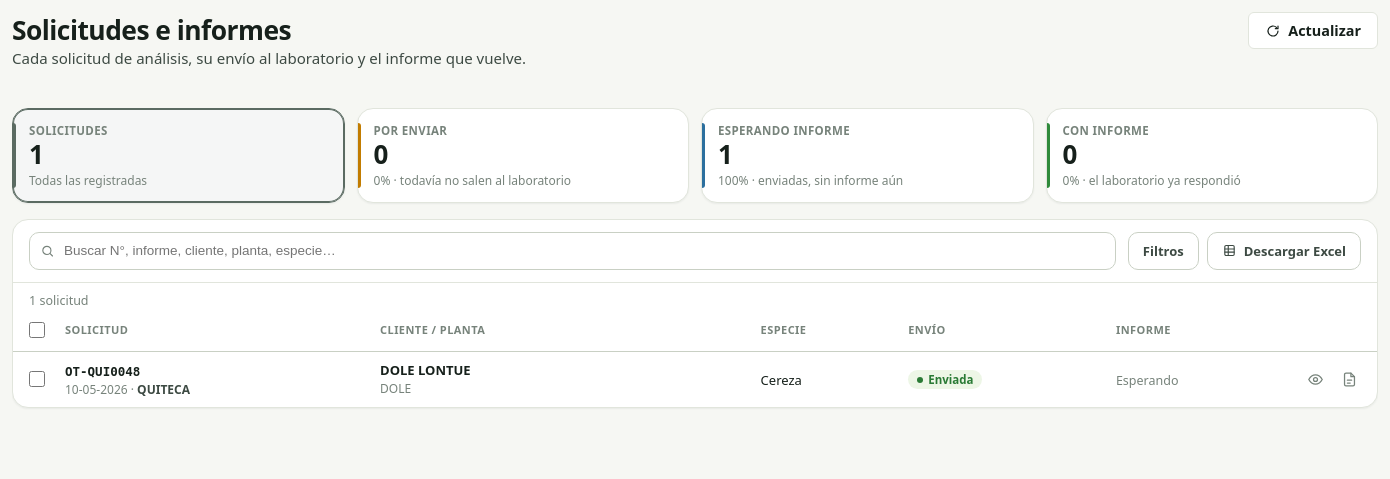
Scenario: Solicitudes e informes para un comercial (solo lectura) › con una solicitud elegida solo ofrece descargar: sin enviar, JSON ni marcar envíos
Click the checkbox named "Seleccionar OT-QUI0048": (37, 379) [29, 371, 45, 387]
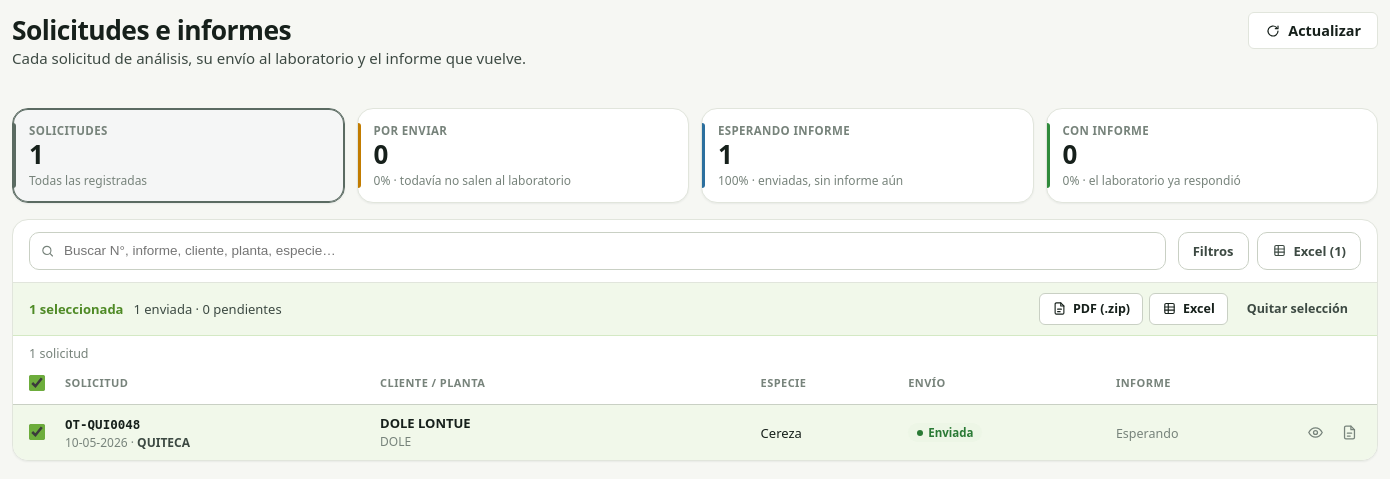
Check: the button "Excel (1)" is shown, box [1256, 232, 1361, 270]
Check: the button "PDF (.zip)" is shown, box [1039, 293, 1143, 325]
